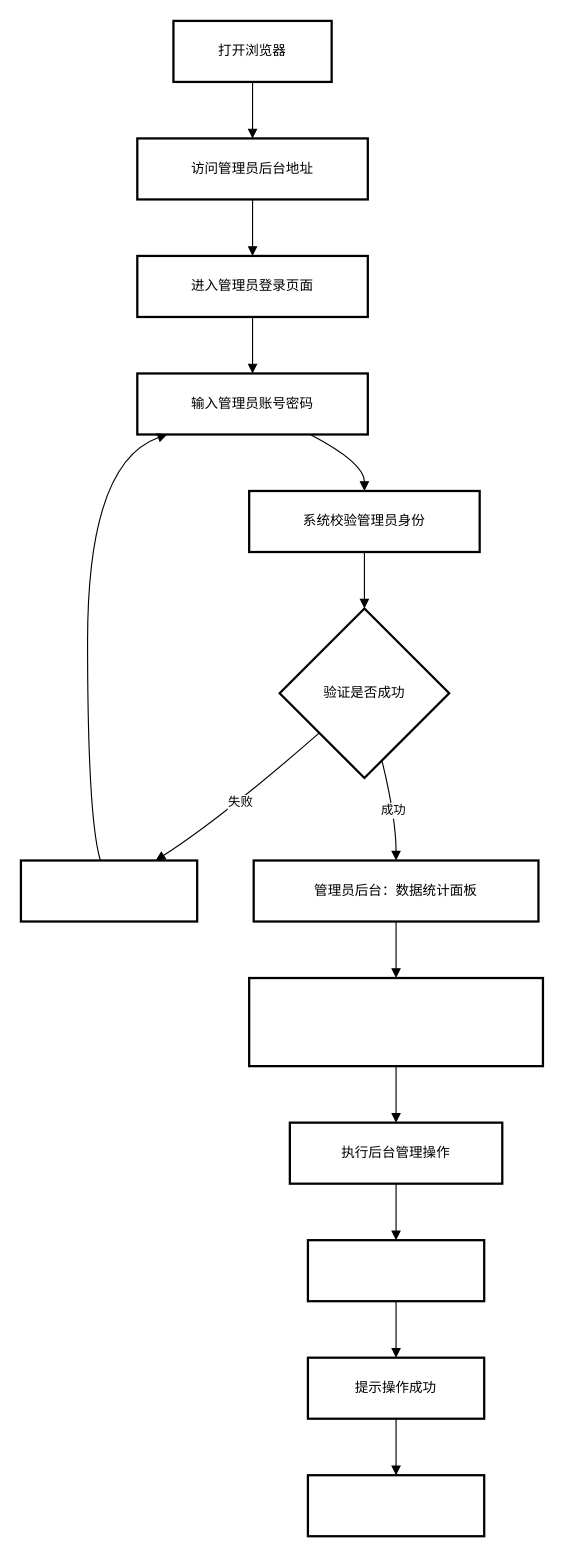
The diagram is 563 pixels wide and 1556 high, and some of its shapes have lost their labels. The centre of each missing label's shape, as x and y in pixels:
"后台管理完成" belongs at [395,1505].
"提示登录错误" belongs at [108,890].
"用户管理/内容审核/知识库管理/系统设置" belongs at [395,1021].
"系统保存数据" belongs at [395,1270].
